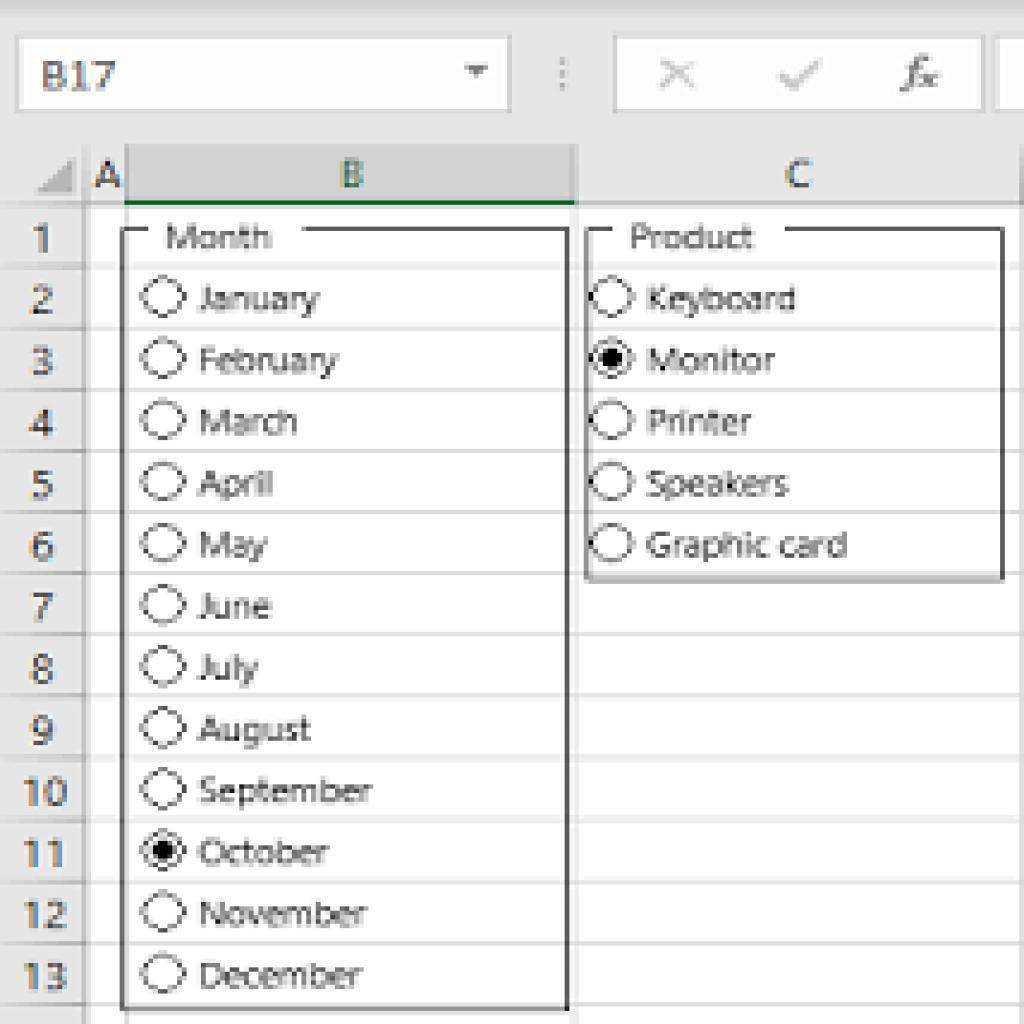dropdown: (22, 44, 507, 112)
label: (201, 956, 372, 998), (199, 769, 374, 809), (203, 893, 368, 934), (645, 460, 793, 504), (196, 337, 340, 378), (200, 830, 331, 875), (645, 279, 797, 317), (642, 344, 776, 379), (645, 400, 755, 442), (199, 710, 315, 749), (199, 280, 326, 315), (197, 404, 301, 439), (199, 526, 273, 564), (196, 590, 277, 624), (202, 467, 279, 500), (197, 650, 262, 689)
radio: (129, 766, 195, 819), (139, 947, 195, 1006), (134, 273, 198, 323), (134, 582, 200, 630), (582, 267, 637, 323), (584, 330, 642, 383), (138, 889, 198, 939), (136, 334, 194, 385), (132, 400, 193, 448), (136, 698, 191, 751), (141, 635, 184, 699), (588, 517, 639, 568), (584, 397, 637, 444), (588, 459, 637, 508), (138, 521, 191, 566), (140, 461, 189, 508), (141, 824, 188, 873)
table: (3, 147, 1024, 1008)
